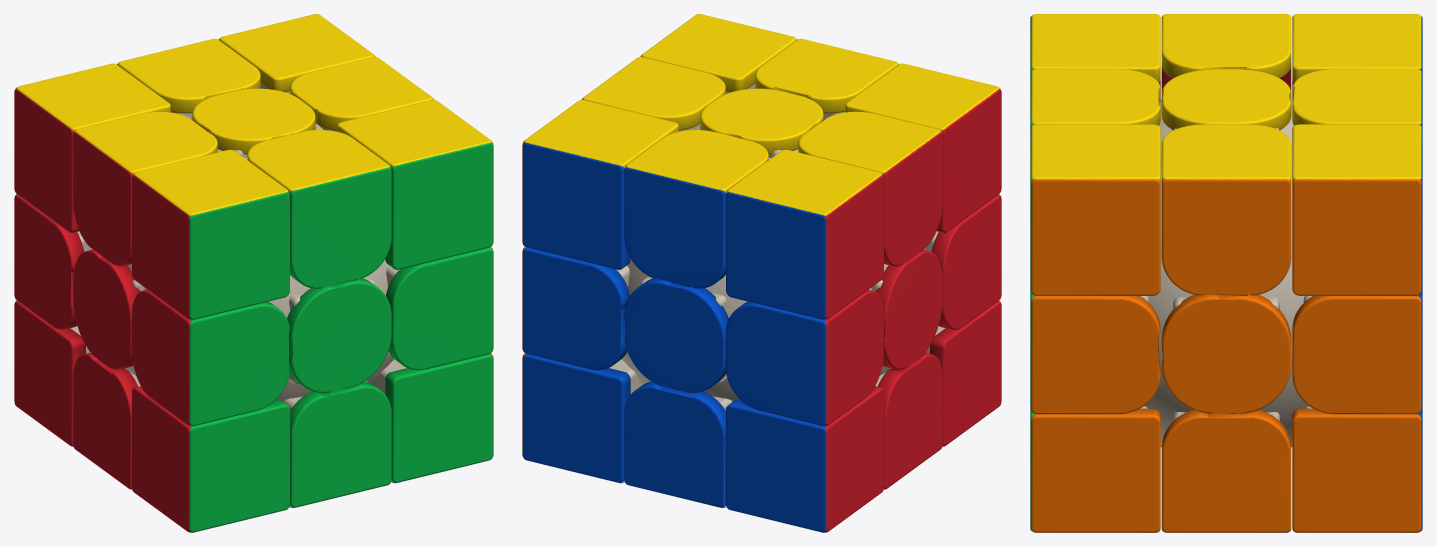
The picture shows the model from 3 angles, left to right: view 1: azimuth 30°, elevation 25°; view 2: azimuth 150°, elevation 25°; view 3: azimuth 270°, elevation 25°; orthographic projection. The views are drawn at different scales.
Parts seen in each view (by area): view 1: piece_-1,1,1, piece_-1,-1,1, piece_1,1,1, piece_-1,0,1, piece_0,1,1, piece_-1,1,-1, piece_1,-1,1, piece_-1,1,0, piece_1,0,1, piece_0,-1,1, piece_0,0,1, piece_-1,-1,-1 (+8 smaller); view 2: piece_-1,1,-1, piece_-1,-1,-1, piece_1,1,-1, piece_-1,0,-1, piece_0,1,-1, piece_-1,1,1, piece_1,-1,-1, piece_-1,1,0, piece_1,0,-1, piece_0,-1,-1, piece_0,0,-1, piece_-1,-1,1 (+8 smaller); view 3: piece_1,1,-1, piece_1,1,1, piece_1,1,0, piece_1,-1,1, piece_1,-1,-1, piece_1,-1,0, piece_1,0,-1, piece_1,0,1, piece_1,0,0, piece_-1,1,0, piece_-1,1,-1, piece_-1,1,1 (+4 smaller).
Part boxes in pixels (x1=…): piece_-1,1,1: x1=132, y1=149, x2=289, y2=319; piece_-1,-1,1: x1=132, y1=386, x2=289, y2=532; piece_1,1,1: x1=337, y1=100, x2=493, y2=269; piece_-1,0,1: x1=131, y1=289, x2=289, y2=426; piece_0,1,1: x1=247, y1=130, x2=391, y2=288; piece_-1,1,-1: x1=14, y1=63, x2=170, y2=232; piece_1,-1,1: x1=375, y1=353, x2=493, y2=483; piece_-1,1,0: x1=73, y1=111, x2=217, y2=266; piece_1,0,1: x1=386, y1=247, x2=493, y2=370; piece_0,-1,1: x1=283, y1=381, x2=391, y2=508; piece_0,0,1: x1=287, y1=277, x2=391, y2=392; piece_-1,-1,-1: x1=14, y1=300, x2=90, y2=446; piece_-1,1,-1: x1=726, y1=149, x2=883, y2=319; piece_-1,-1,-1: x1=726, y1=386, x2=883, y2=532; piece_1,1,-1: x1=522, y1=100, x2=678, y2=269; piece_-1,0,-1: x1=725, y1=289, x2=883, y2=426; piece_0,1,-1: x1=624, y1=130, x2=768, y2=288; piece_-1,1,1: x1=845, y1=63, x2=1001, y2=232; piece_1,-1,-1: x1=522, y1=353, x2=640, y2=483; piece_-1,1,0: x1=798, y1=111, x2=942, y2=266; piece_1,0,-1: x1=522, y1=247, x2=629, y2=370; piece_0,-1,-1: x1=624, y1=381, x2=732, y2=508; piece_0,0,-1: x1=624, y1=277, x2=728, y2=392; piece_-1,-1,1: x1=925, y1=300, x2=1001, y2=446; piece_1,1,-1: x1=1292, y1=124, x2=1422, y2=295; piece_1,1,1: x1=1030, y1=124, x2=1160, y2=295; piece_1,1,0: x1=1161, y1=124, x2=1291, y2=295; piece_1,-1,1: x1=1030, y1=406, x2=1160, y2=532; piece_1,-1,-1: x1=1292, y1=406, x2=1422, y2=532; piece_1,-1,0: x1=1161, y1=410, x2=1291, y2=532; piece_1,0,-1: x1=1292, y1=292, x2=1422, y2=414; piece_1,0,1: x1=1030, y1=292, x2=1160, y2=414; piece_1,0,0: x1=1161, y1=294, x2=1291, y2=414; piece_-1,1,0: x1=1161, y1=14, x2=1291, y2=98; piece_-1,1,-1: x1=1292, y1=14, x2=1422, y2=99; piece_-1,1,1: x1=1030, y1=14, x2=1160, y2=99.
Size of the model in its own units: 2 by 2 by 2.
